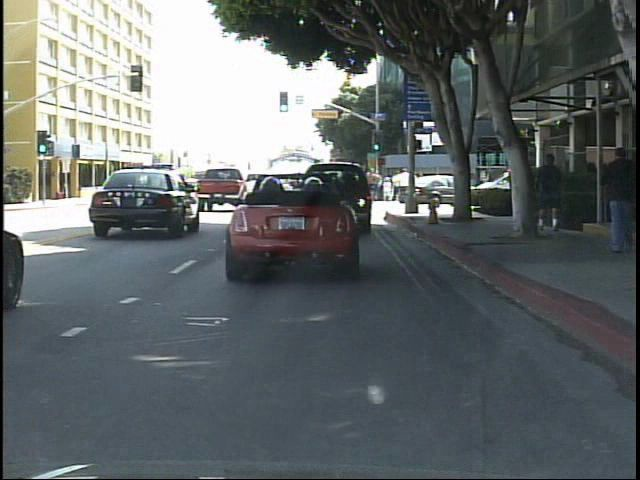person: (599, 141, 637, 260), (537, 146, 570, 236), (130, 175, 149, 202)
